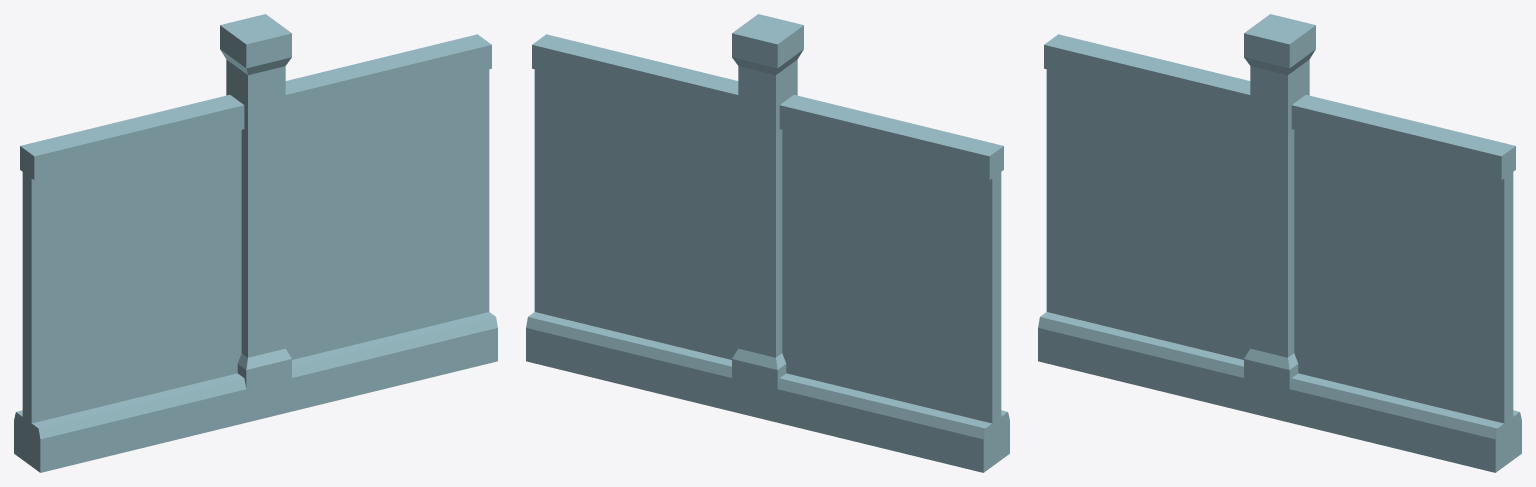
Rendered from d_kenney_pilier_muret.glb.
3 views of the same model, side by side, from view 1: azimuth 30°, elevation 25°; view 2: azimuth 150°, elevation 25°; view 3: azimuth 330°, elevation 25° (orthographic).
Parts seen in each view (by area): view 1: d_kenney_pilier_muret; view 2: d_kenney_pilier_muret; view 3: d_kenney_pilier_muret.
Part boxes in pixels (x1=…): d_kenney_pilier_muret: x1=14, y1=14, x2=497, y2=472; d_kenney_pilier_muret: x1=526, y1=14, x2=1009, y2=472; d_kenney_pilier_muret: x1=1038, y1=14, x2=1521, y2=472.
Size of the model in its own units: 1 by 0.79 by 0.1.
1 material, 1 textured.
